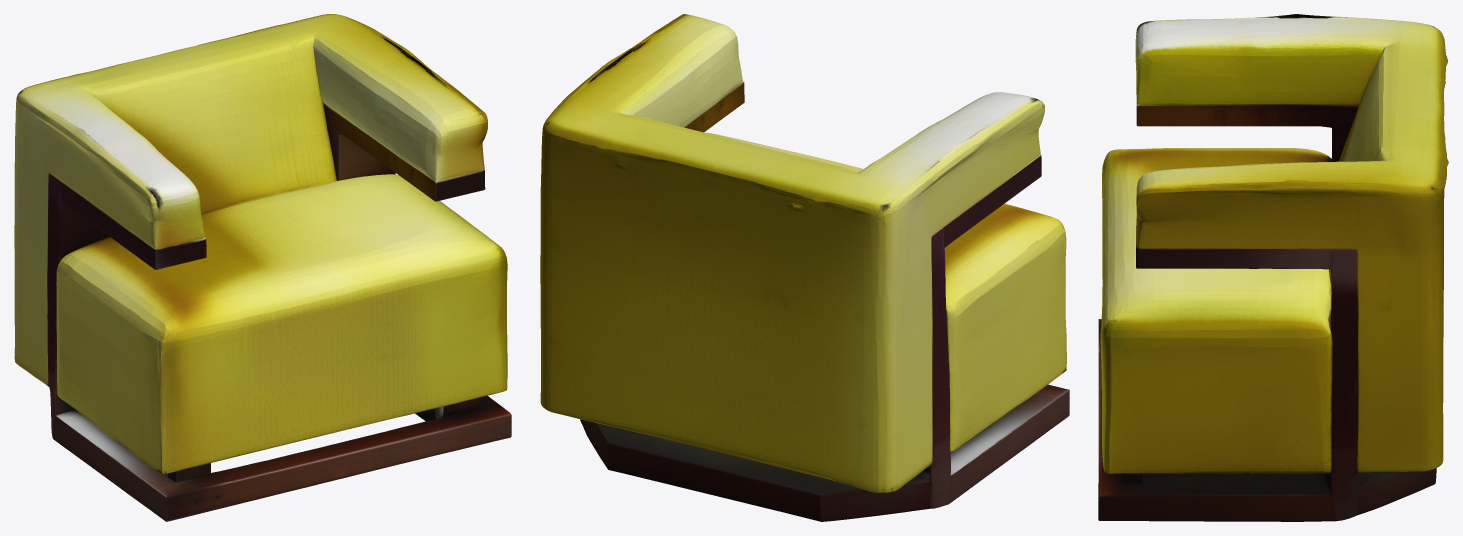
The model's file is sample.glb.
The picture shows the model from 3 angles, left to right: view 1: azimuth 30°, elevation 25°; view 2: azimuth 150°, elevation 25°; view 3: azimuth 270°, elevation 25°; orthographic projection. The views are drawn at different scales.
Visible parts, largest first — view 1: world; view 2: world; view 3: world.
Part boxes in pixels (left/top/right/bottom): world: left=14, top=14, right=511, bottom=521; world: left=540, top=14, right=1069, bottom=521; world: left=1098, top=14, right=1448, bottom=521.
Bounding box in the file's own units: 0.9901 × 0.8636 × 0.814.
1 material, 1 textured.
